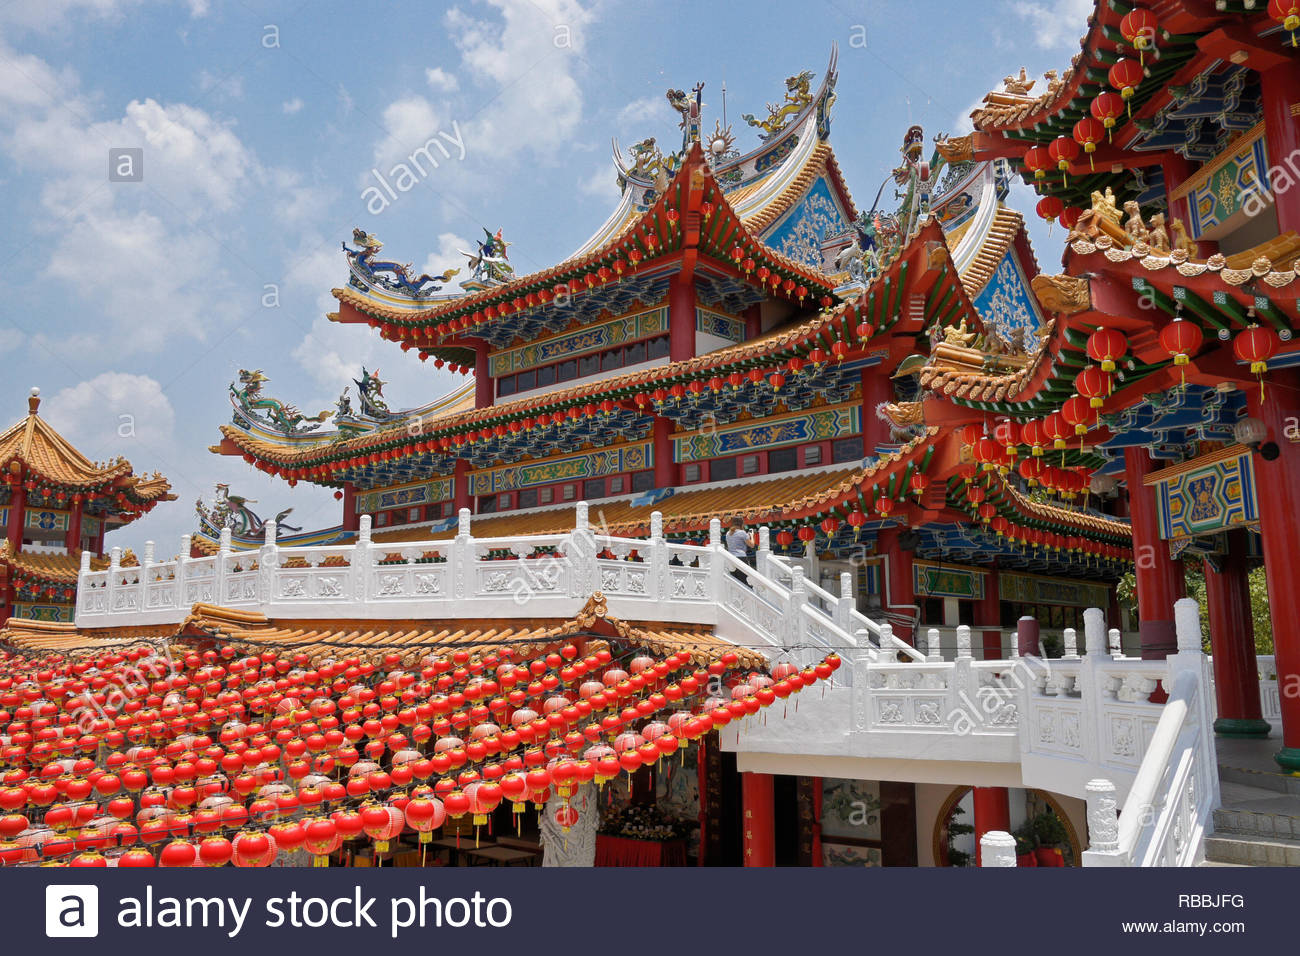Buddhist Temple: (287, 85, 1055, 550)
